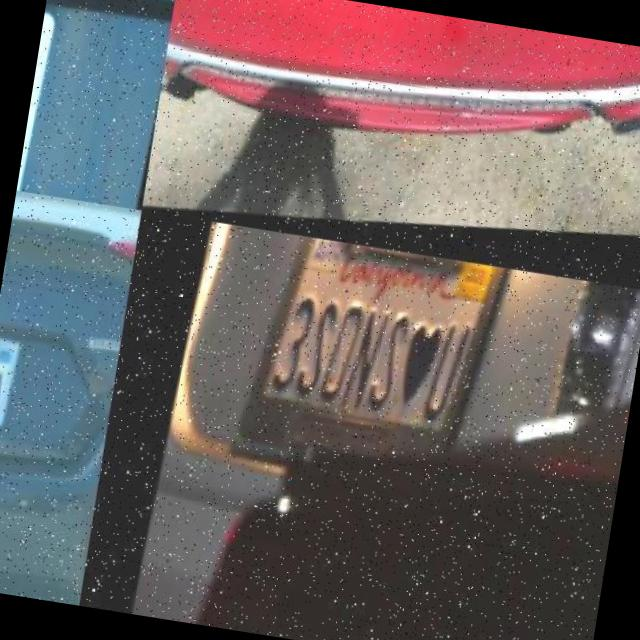LicensePlate: (235, 231, 492, 493), (17, 1, 172, 210), (0, 334, 40, 436)
